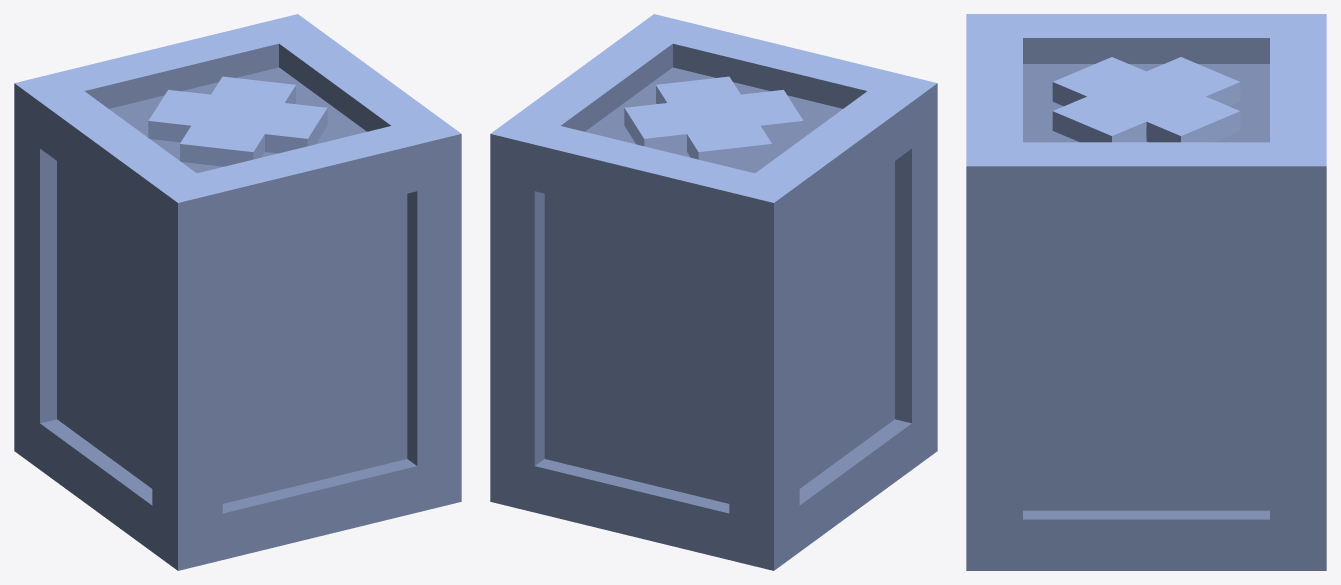
The model's file is Wall_TileA.fbx.
The picture shows the model from 3 angles, left to right: view 1: azimuth 30°, elevation 25°; view 2: azimuth 150°, elevation 25°; view 3: azimuth 270°, elevation 25°; orthographic projection. The views are drawn at different scales.
Visible parts, largest first — view 1: Wall_TileA; view 2: Wall_TileA; view 3: Wall_TileA.
Boxes of the visible parts, x1,y1,x2,y2 form: Wall_TileA: [14, 14, 461, 570]; Wall_TileA: [490, 14, 937, 570]; Wall_TileA: [966, 14, 1326, 570].
Size of the model in its own units: 2 by 2 by 2.48.
